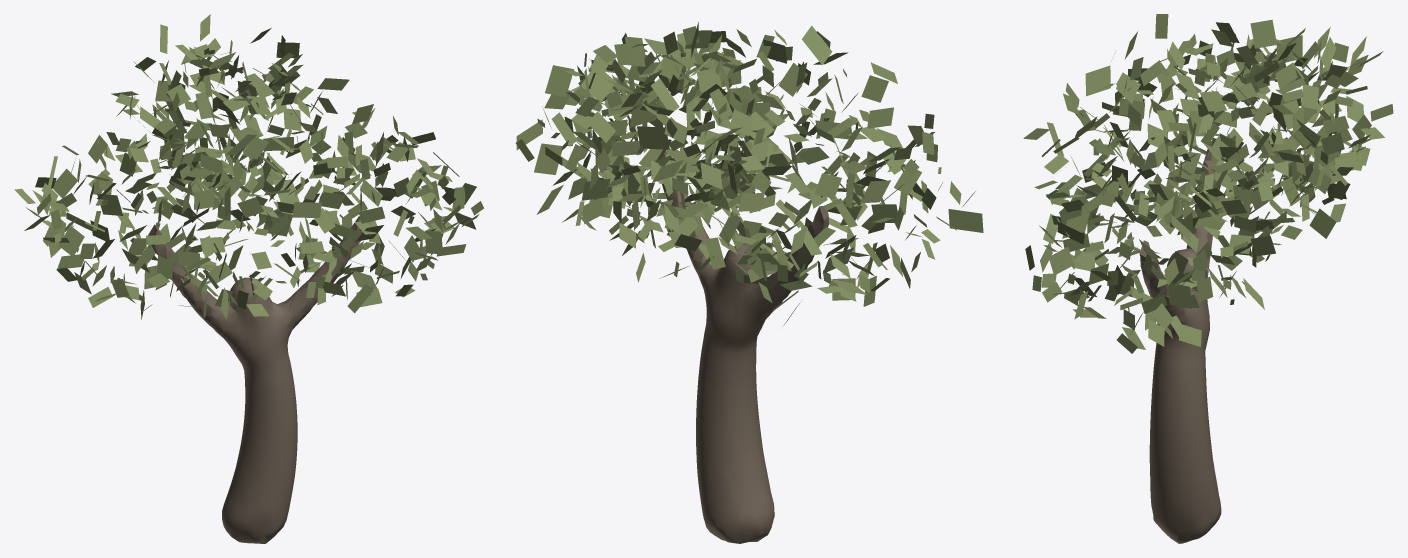
File: olive.glb
3 views of the same model, side by side, from view 1: azimuth 30°, elevation 25°; view 2: azimuth 150°, elevation 25°; view 3: azimuth 270°, elevation 25° (orthographic). The views are drawn at different scales.
Parts seen in each view (by area): view 1: leaf1, bark0; view 2: leaf1, bark0; view 3: leaf1, bark0.
Part boxes in pixels (<box>): leaf1: <box>14,14,483,319</box>; bark0: <box>148,216,362,543</box>; leaf1: <box>516,22,983,325</box>; bark0: <box>655,151,828,543</box>; leaf1: <box>1023,14,1393,353</box>; bark0: <box>1139,141,1221,543</box>.
Bounding box in the file's own units: 3.35 × 3.89 × 2.6.
